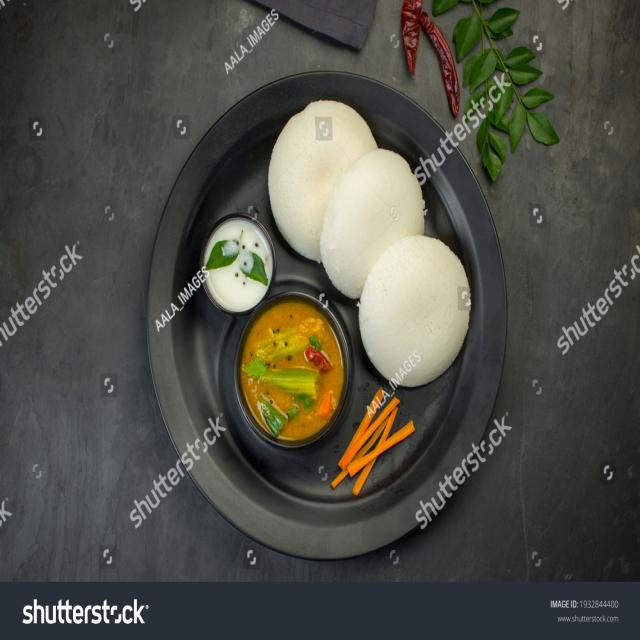IDLI: (360, 238, 477, 391), (270, 105, 379, 258), (322, 149, 426, 300)
